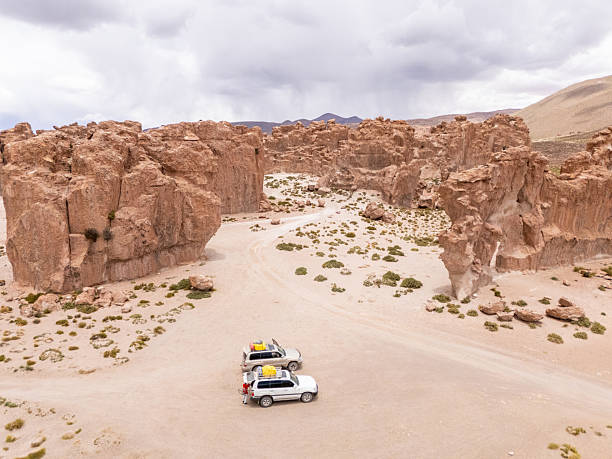vehicle_track: (248, 209, 611, 411)
